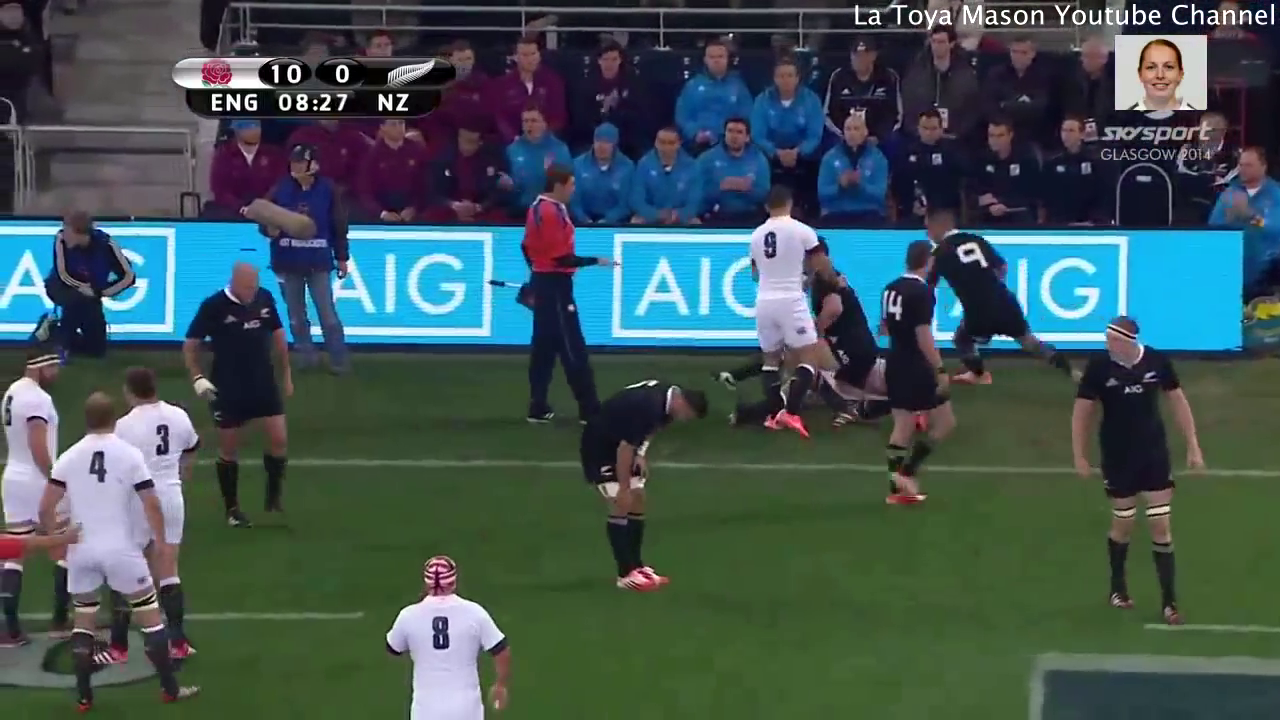player: (37, 387, 210, 714), (1064, 314, 1206, 635), (182, 261, 313, 547), (573, 368, 718, 612), (907, 201, 1072, 395), (858, 236, 964, 530), (103, 366, 204, 657), (377, 550, 520, 720), (745, 188, 834, 449), (1, 339, 69, 652), (799, 254, 890, 393)
